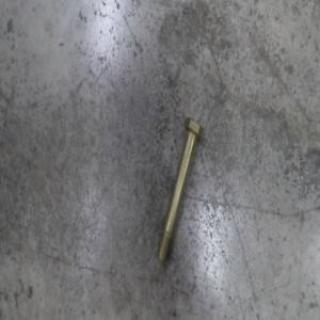Bolttrack_idkeyframe: (155, 114, 202, 264)
